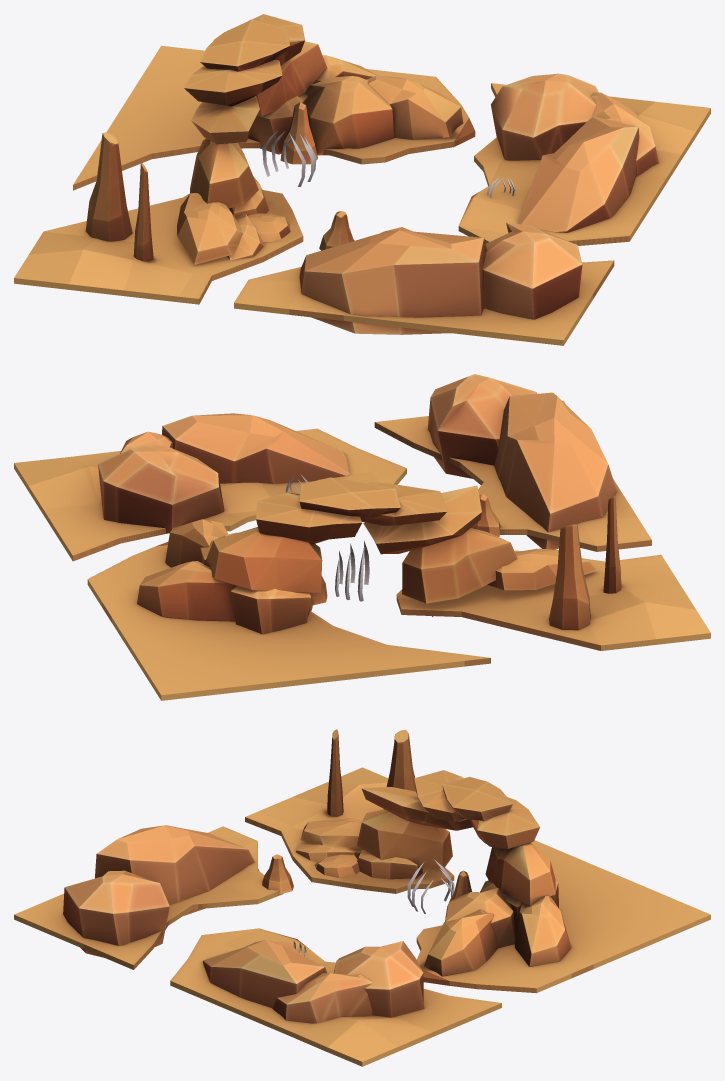
Rendered from desert_scape.fbx.
The picture shows the model from 3 angles, top to bottom: view 1: azimuth 30°, elevation 25°; view 2: azimuth 150°, elevation 25°; view 3: azimuth 270°, elevation 25°; orthographic projection. The views are drawn at different scales.
Parts seen in each view (by area): view 1: pPlane1, pCube414, pCube412, polySurface10, pCube411, pCube415; view 2: pPlane1, pCube414, pCube412, polySurface10, pCube411, pCube415; view 3: pPlane1, pCube414, pCube412, polySurface10, pCube411, pCube415.
Part boxes in pixels (box(x1,y1,x2,y2)): pPlane1: box(14, 45, 710, 345); pCube414: box(299, 73, 658, 334); pCube412: box(248, 41, 463, 164); polySurface10: box(85, 132, 354, 264); pCube411: box(184, 14, 305, 144); pCube415: box(262, 130, 316, 186); pPlane1: box(14, 400, 710, 700); pCube414: box(98, 374, 616, 549); pCube412: box(137, 519, 327, 634); polySurface10: box(402, 493, 621, 630); pCube411: box(256, 477, 481, 554); pCube415: box(335, 540, 369, 601); pPlane1: box(14, 767, 710, 1066); pCube414: box(63, 825, 424, 1023); pCube412: box(424, 842, 571, 976); polySurface10: box(262, 729, 452, 894); pCube411: box(361, 770, 539, 848); pCube415: box(407, 859, 454, 913).
Size of the model in its own units: 322 by 59.48 by 322.
